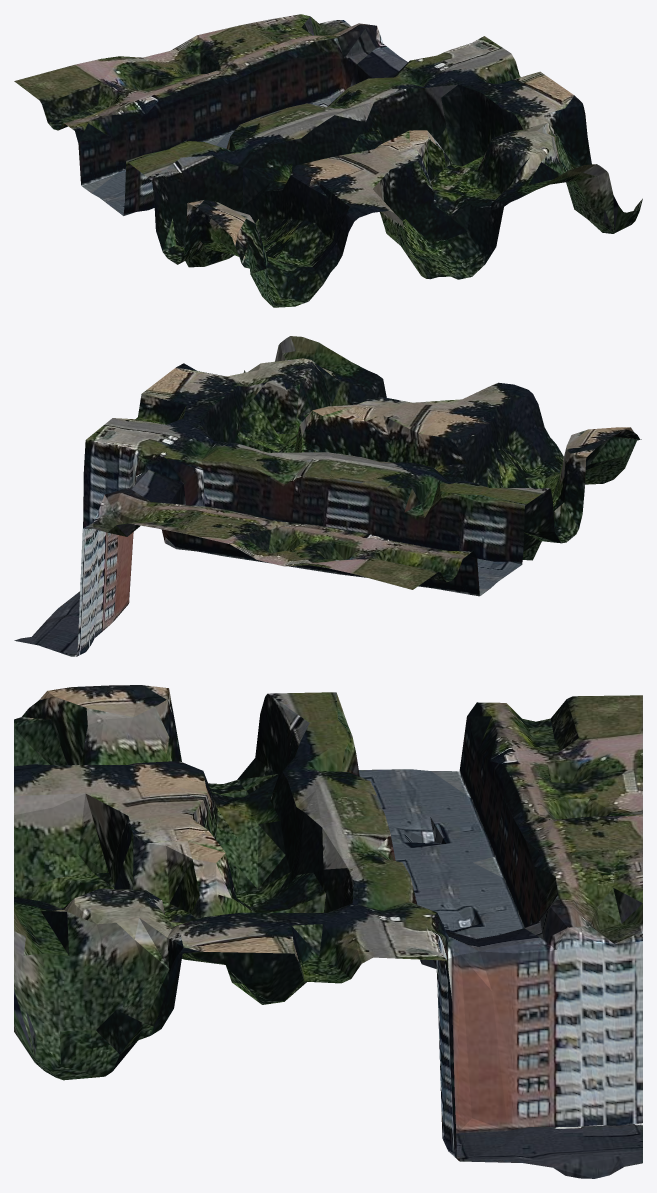
File: map_15_8176_13791.dae
3 renders of one model, top to bottom at view 1: azimuth 30°, elevation 25°; view 2: azimuth 150°, elevation 25°; view 3: azimuth 270°, elevation 25°, orthographic. The views are drawn at different scales.
Visible parts, largest first — view 1: Ter0; view 2: Ter0; view 3: Ter0.
Part boxes in pixels (x1,y1,x2,y2): Ter0: (14,14,642,307); Ter0: (14,336,641,656); Ter0: (14,685,642,1178).
Bounding box in the file's own units: 63.88 × 63.88 × 25.55.
4 materials, 4 textured.
